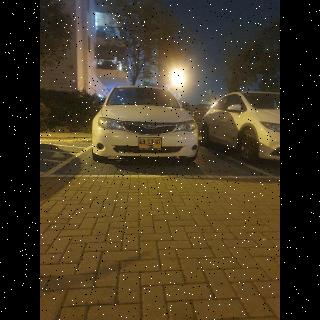LicensePlate: (140, 138, 161, 145)
